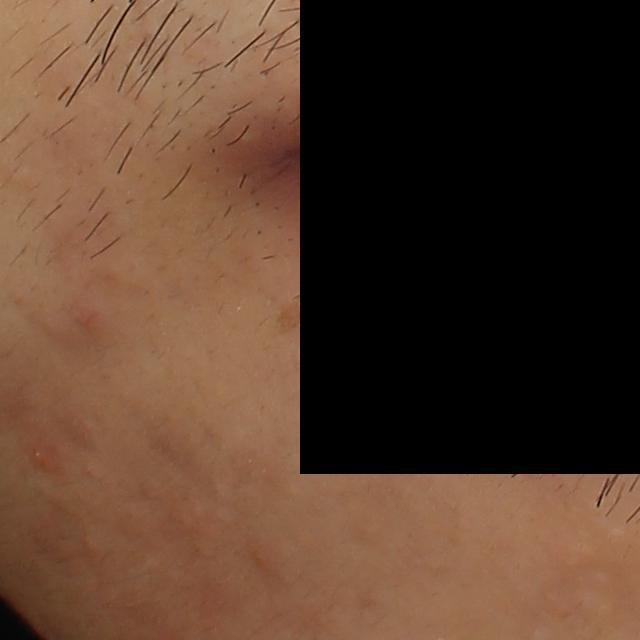hypertrophic_scar: (569, 589, 613, 619), (602, 523, 633, 547)
papule: (23, 436, 69, 483)
